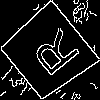R: (23, 27, 82, 84)
